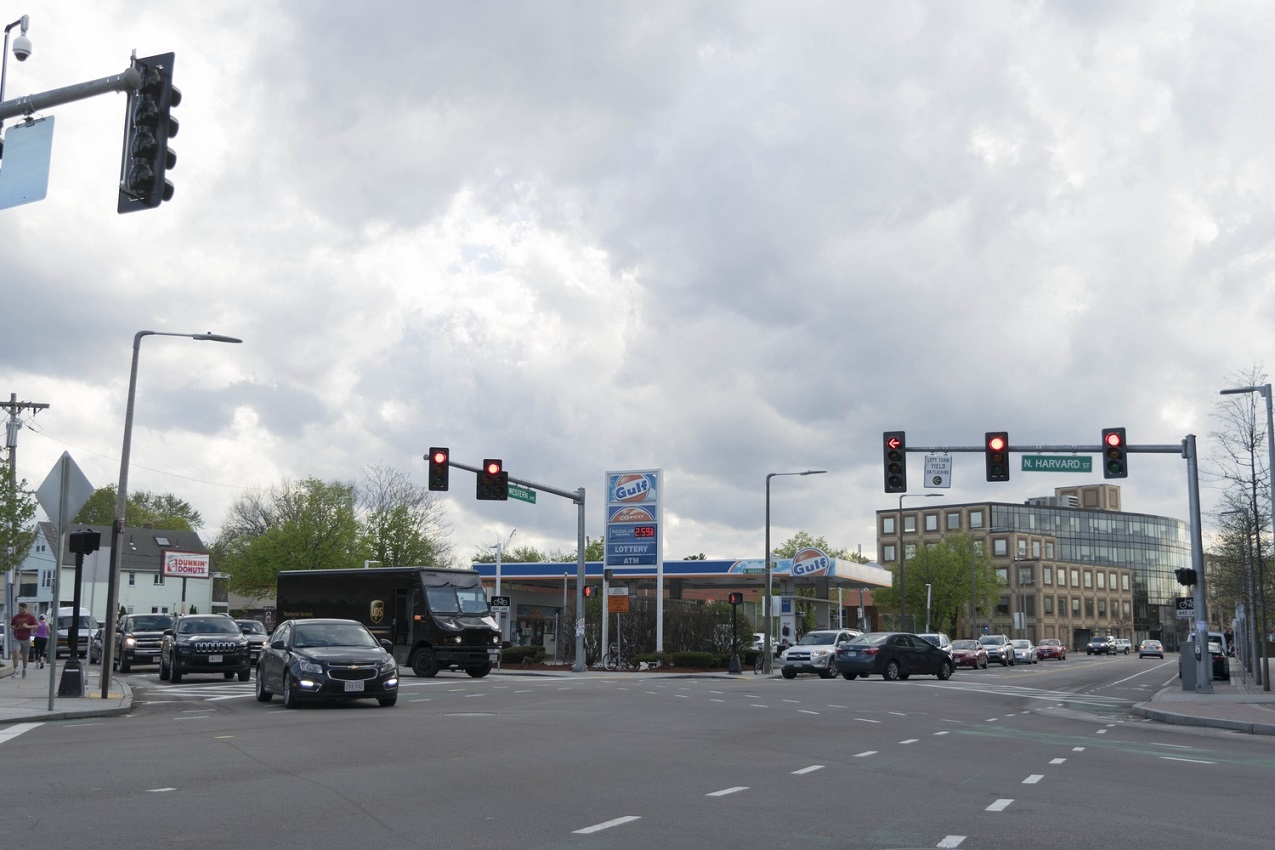traffic_light: (881, 429, 908, 495), (1099, 426, 1129, 480), (475, 458, 510, 503), (983, 430, 1012, 484), (427, 445, 451, 493)
